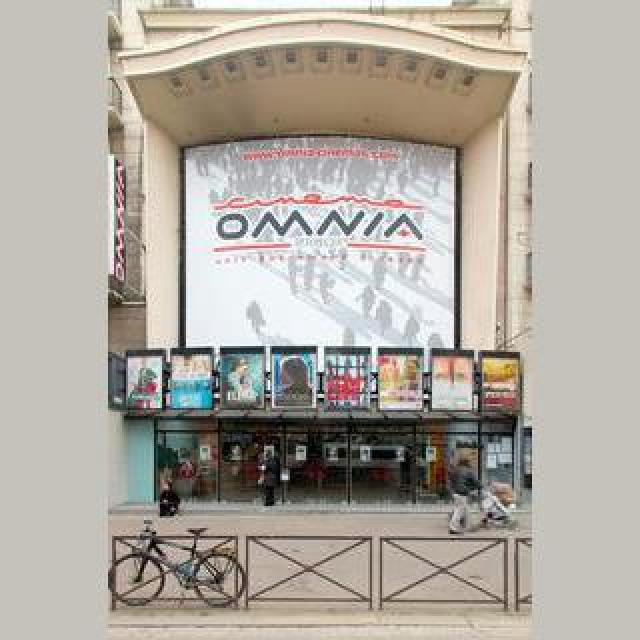MC-Bike: (258, 448, 280, 508), (158, 478, 180, 516)
Person: (109, 521, 245, 609)
